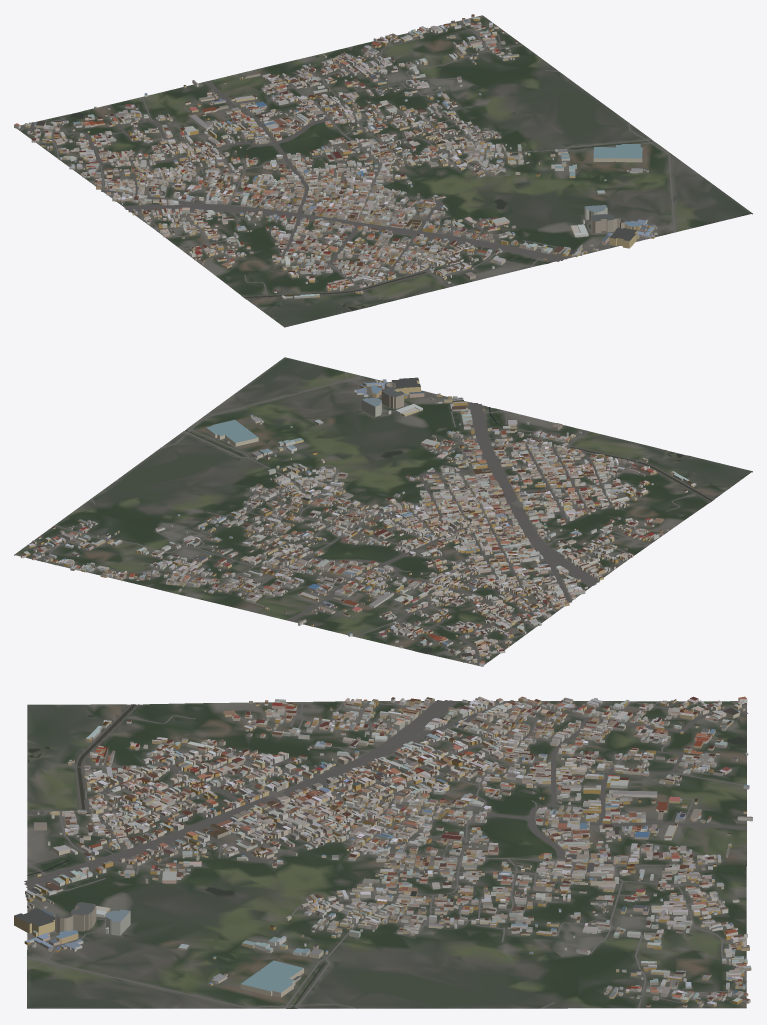
The picture shows the model from 3 angles, top to bottom: view 1: azimuth 30°, elevation 25°; view 2: azimuth 150°, elevation 25°; view 3: azimuth 270°, elevation 25°; orthographic projection. The views are drawn at different scales.
Visible parts, largest first — view 1: ground, buildings, roads, water; view 2: ground, buildings, roads, water; view 3: ground, buildings, roads, water.
Boxes of the visible parts, left/top/right/bottom form: ground: left=17, top=15, right=752, bottom=327; buildings: left=14, top=14, right=657, bottom=299; roads: left=19, top=21, right=692, bottom=298; water: left=70, top=112, right=653, bottom=310; ground: left=14, top=357, right=752, bottom=666; buildings: left=20, top=377, right=696, bottom=666; roads: left=37, top=372, right=713, bottom=665; water: left=185, top=407, right=712, bottom=653; ground: left=27, top=701, right=746, bottom=1008; buildings: left=14, top=696, right=752, bottom=1007; roads: left=24, top=700, right=747, bottom=1008; water: left=27, top=704, right=746, bottom=1008.
Size of the model in its own units: 1409 by 38.19 by 1438.
